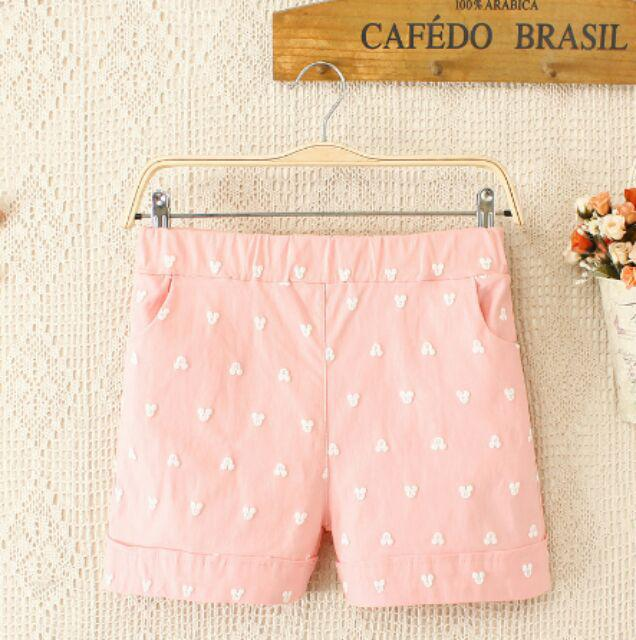Shorts: (106, 220, 554, 609)
